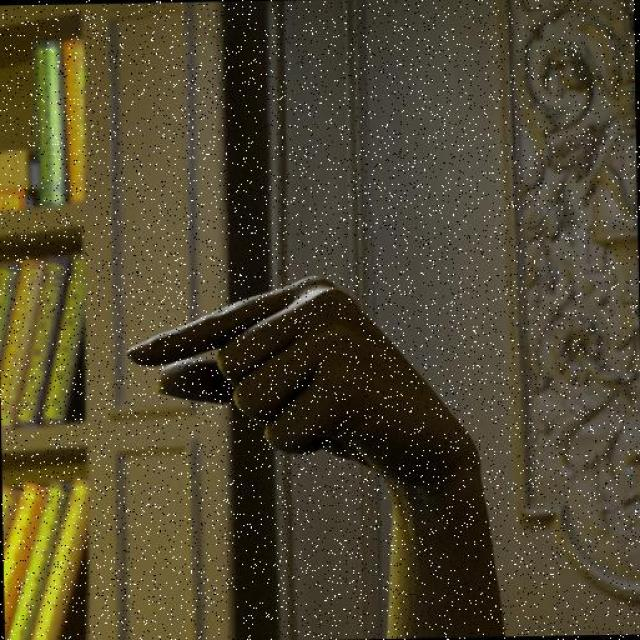G: (119, 265, 486, 506)
